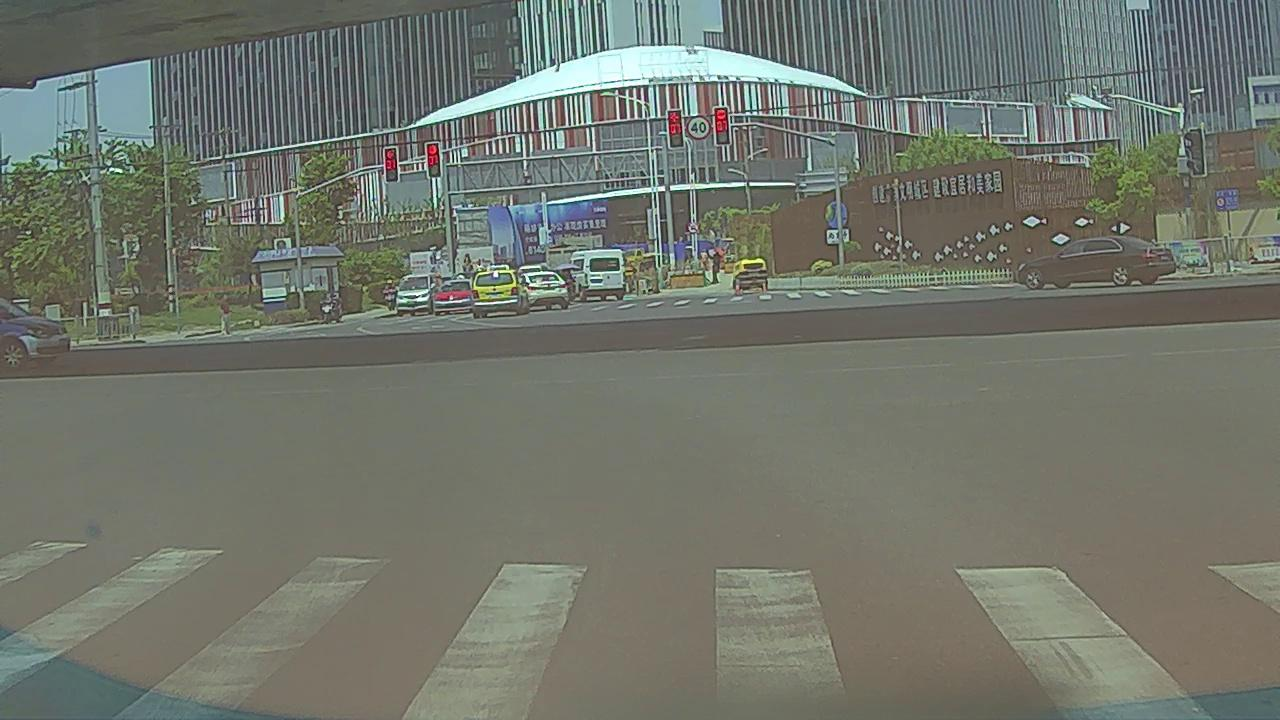traffic_light: (668, 110, 684, 148), (383, 149, 400, 183), (715, 106, 729, 143), (426, 142, 440, 177)
